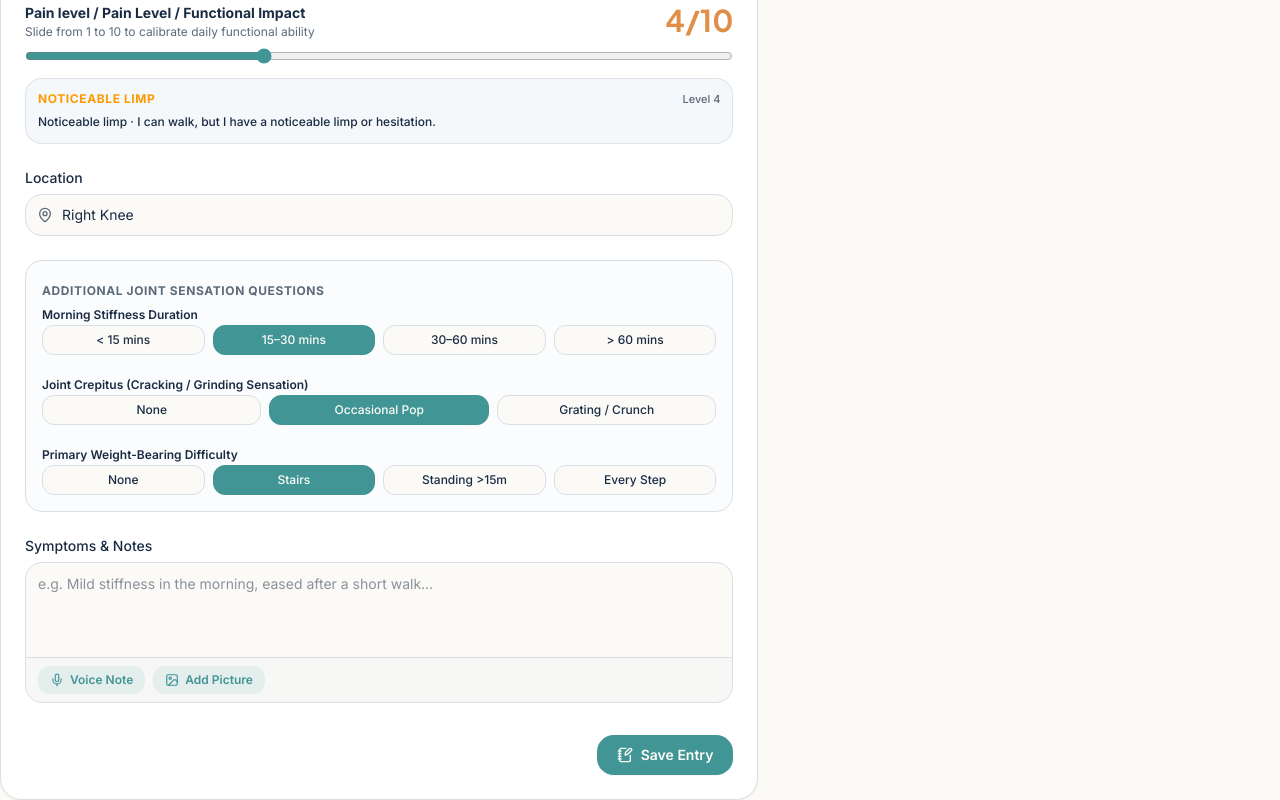
PainJournal › shows error when saveJournalEntry rejects
The image size is (1280, 800).
(page scrolled)
Click the button "Save Entry" at (665, 755), box top-left (597, 735), bottom-right (733, 775)
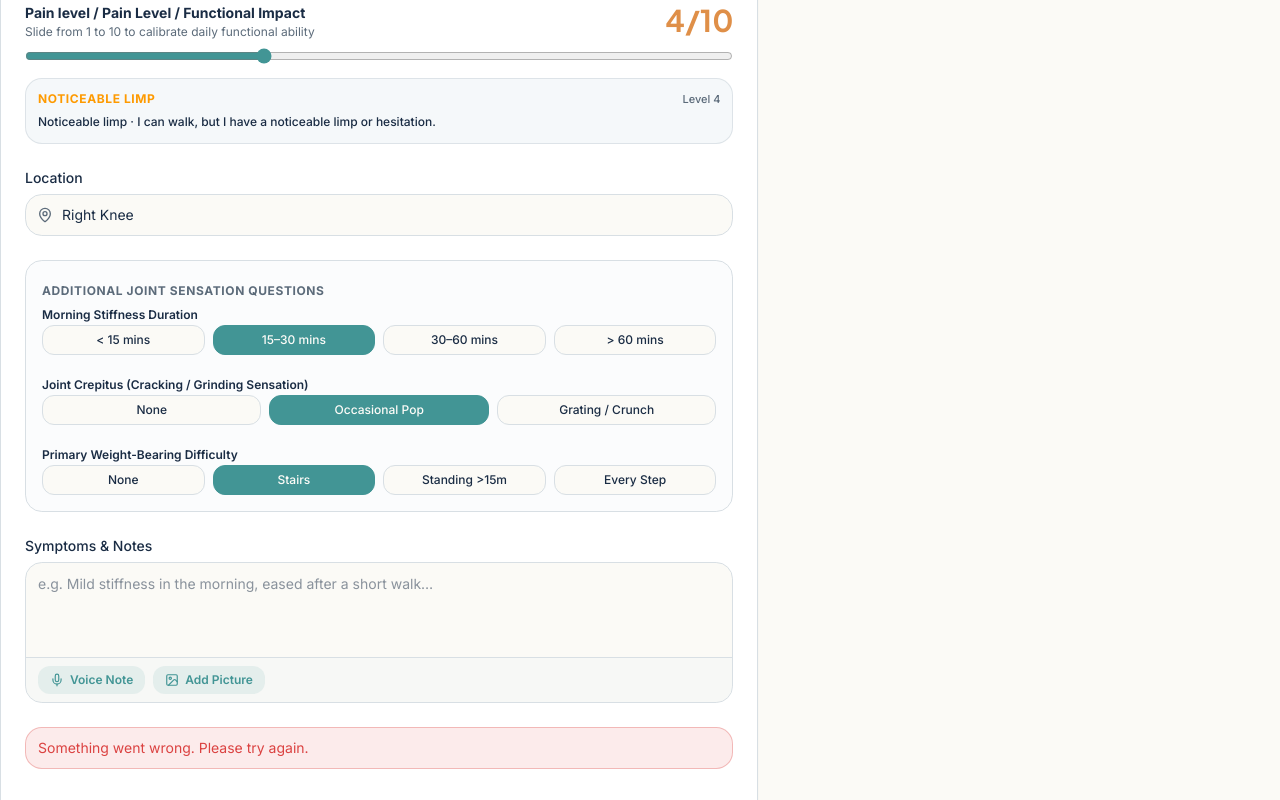
Expected: the text "Something went wrong. Please try again." is shown, top-left (25, 727), bottom-right (733, 769)
